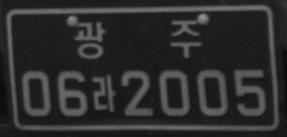0: (197, 68, 229, 116), (158, 68, 190, 115), (21, 69, 51, 116)
2: (121, 69, 154, 115)
5: (232, 68, 267, 116)
6: (56, 69, 88, 117)
광주_D: (74, 19, 203, 59)
라: (91, 74, 115, 111)
